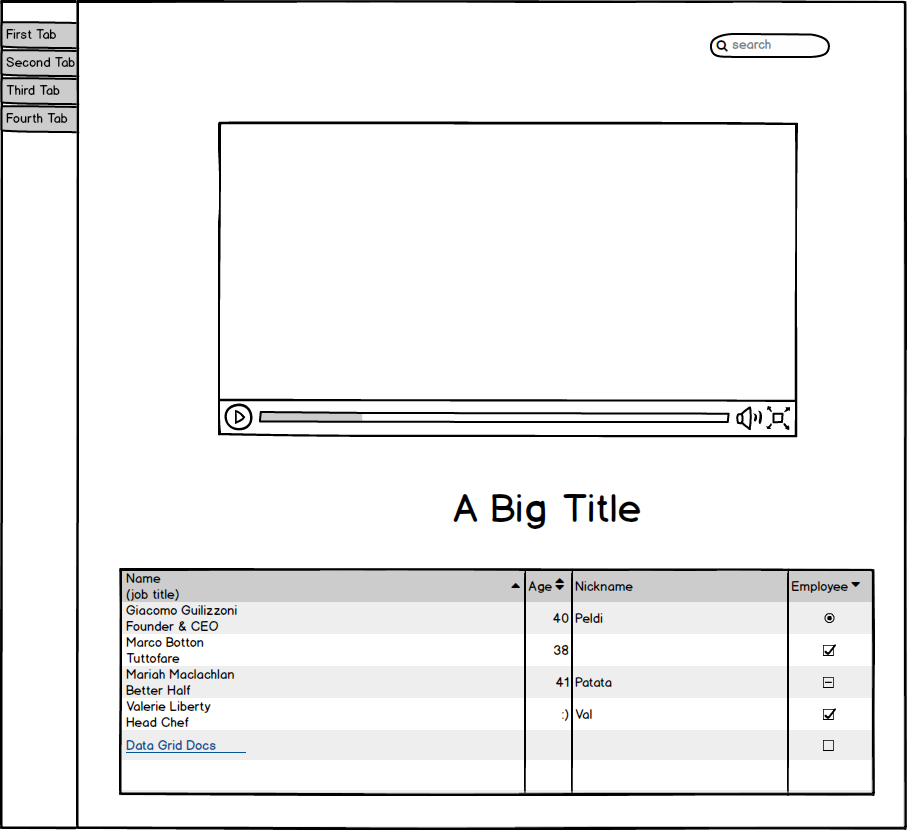h1: (438, 480, 650, 538)
search: (703, 26, 836, 63)
sidebar: (6, 12, 82, 135)
table: (113, 562, 884, 801)
video: (210, 115, 802, 442)
